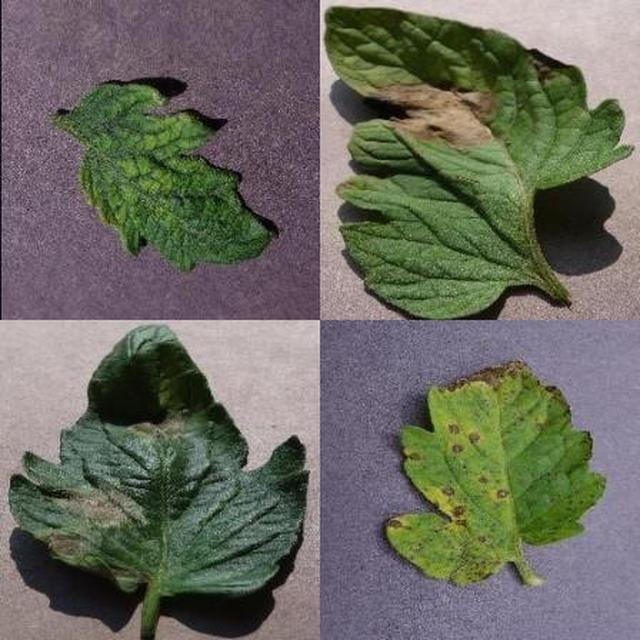Mosaic Virus Leaf: (227, 233, 640, 640)
